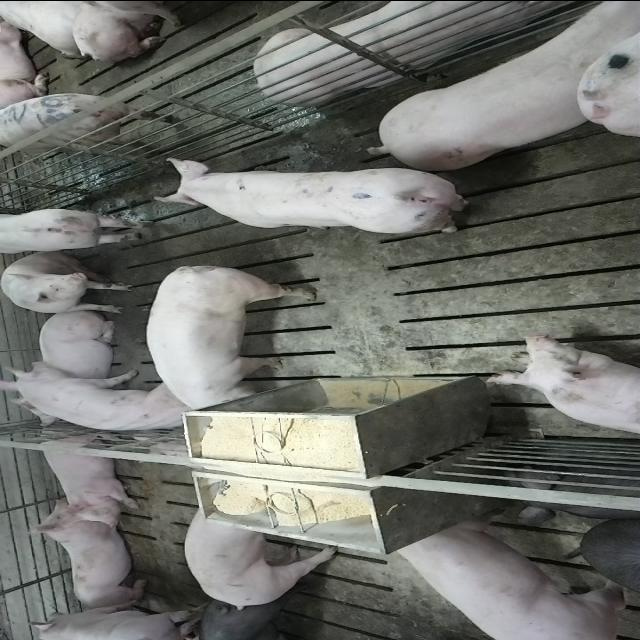Sitting: (0, 363, 185, 436), (0, 251, 134, 315)
Standing: (390, 518, 630, 638), (152, 156, 479, 234), (184, 506, 340, 608), (2, 90, 175, 158), (2, 204, 154, 254), (24, 607, 204, 640), (190, 598, 314, 640)
Sternal_lying: (248, 0, 578, 102), (482, 334, 640, 438), (20, 502, 146, 610), (29, 424, 140, 520), (34, 312, 122, 382)
